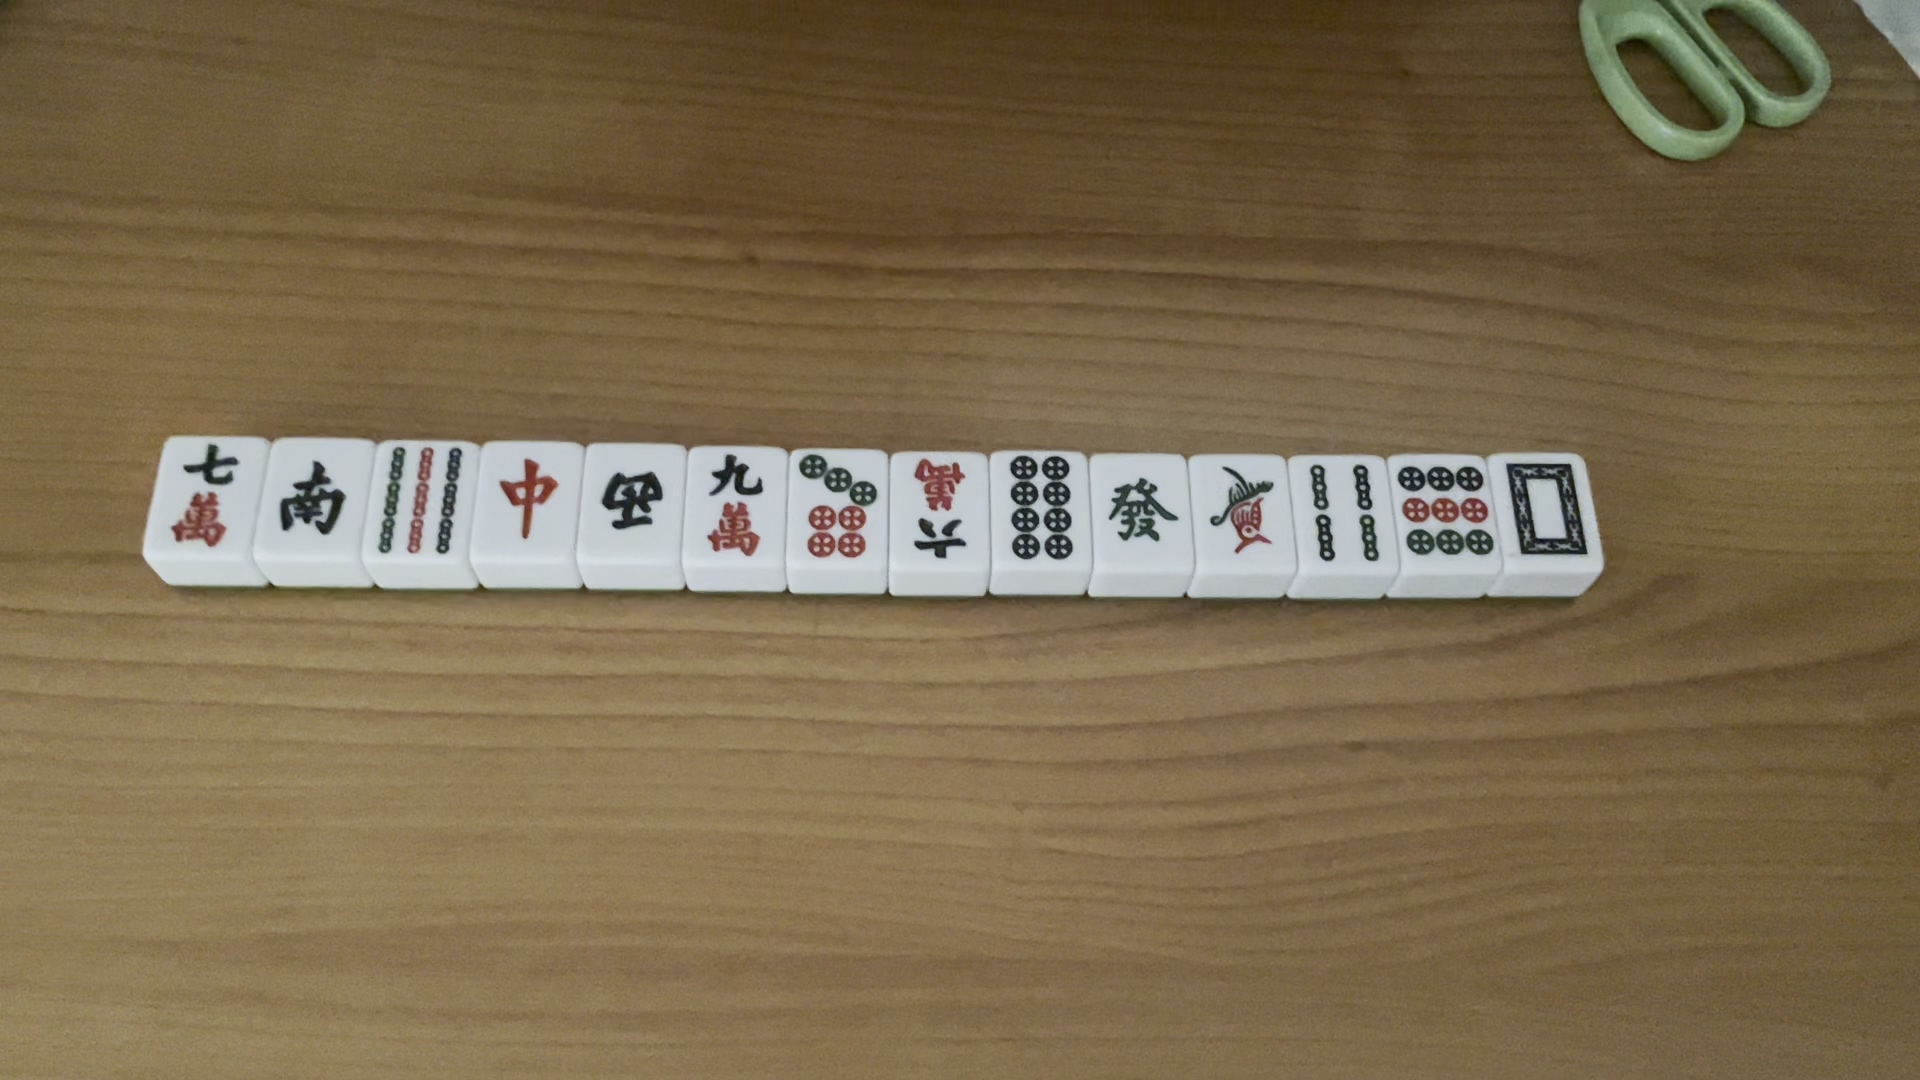b-1: (1204, 458, 1280, 562)
b-4: (1298, 459, 1385, 567)
b-9: (367, 440, 473, 559)
c-6: (902, 448, 975, 563)
c-7: (160, 440, 249, 553)
c-9: (696, 447, 773, 566)
d-7: (794, 454, 881, 562)
d-8: (1000, 451, 1087, 566)
d-9: (1396, 456, 1495, 562)
honors-green: (1100, 475, 1184, 551)
honors-red: (481, 454, 564, 547), (593, 469, 670, 541)
honors-south: (268, 462, 347, 541)
honors-white: (1497, 458, 1600, 564)
